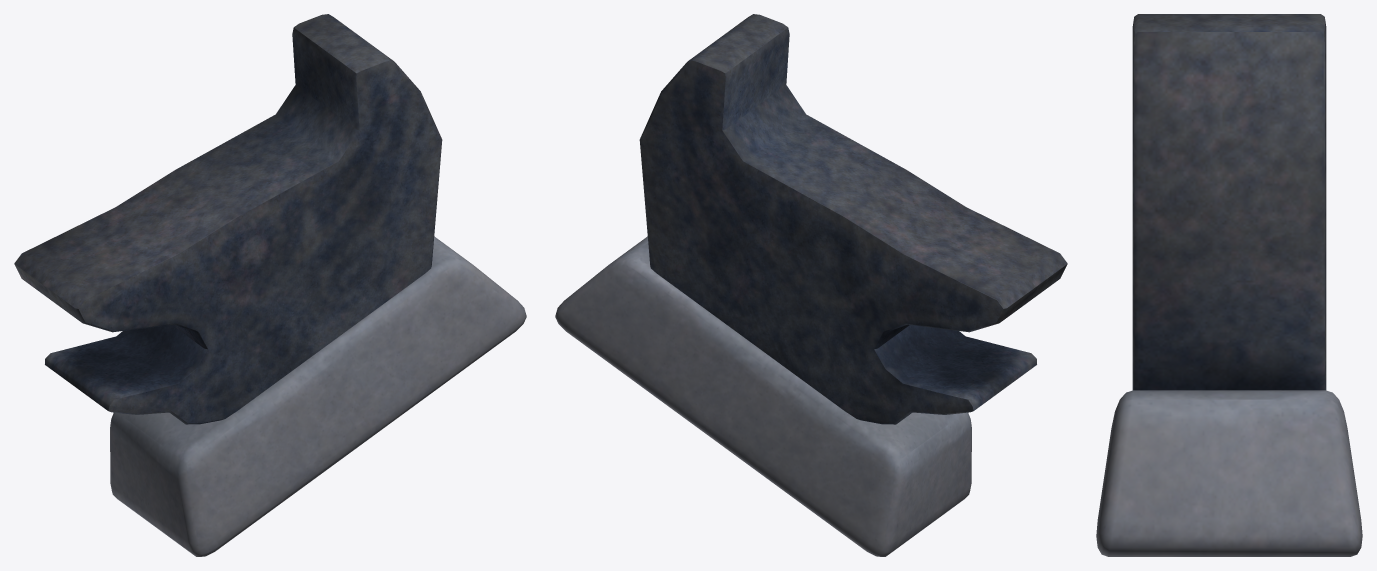
File: SM_Yongdu01a.fbx
3 renders of one model, left to right at view 1: azimuth 30°, elevation 25°; view 2: azimuth 150°, elevation 25°; view 3: azimuth 270°, elevation 25°, orthographic. The views are drawn at different scales.
Parts seen in each view (by area): view 1: SM_Yongdu01a; view 2: SM_Yongdu01a; view 3: SM_Yongdu01a.
Boxes of the visible parts, x1,y1,x2,y2 form: SM_Yongdu01a: (14,14,526,556); SM_Yongdu01a: (555,14,1067,556); SM_Yongdu01a: (1096,14,1362,556).
Bounding box in the file's own units: 58.25 × 20.24 × 55.95.
1 material, 1 textured.
